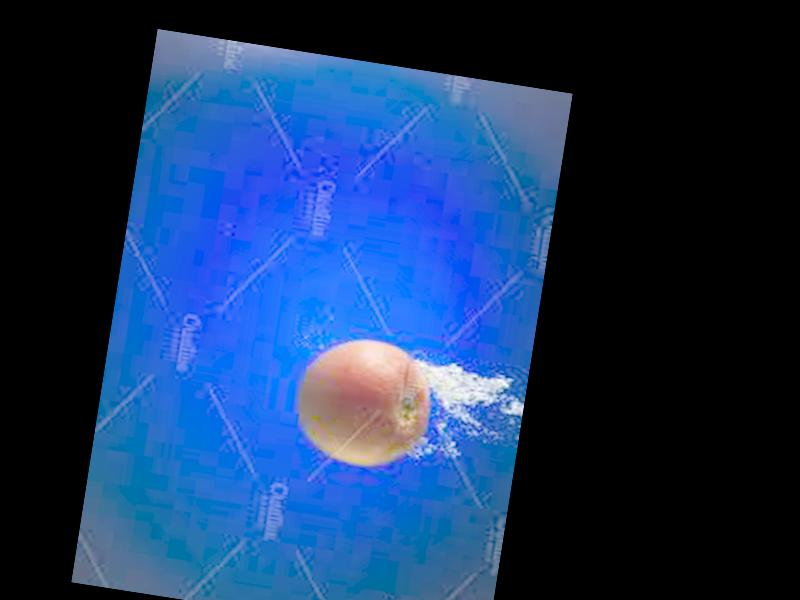Tomato: (292, 331, 439, 476)
